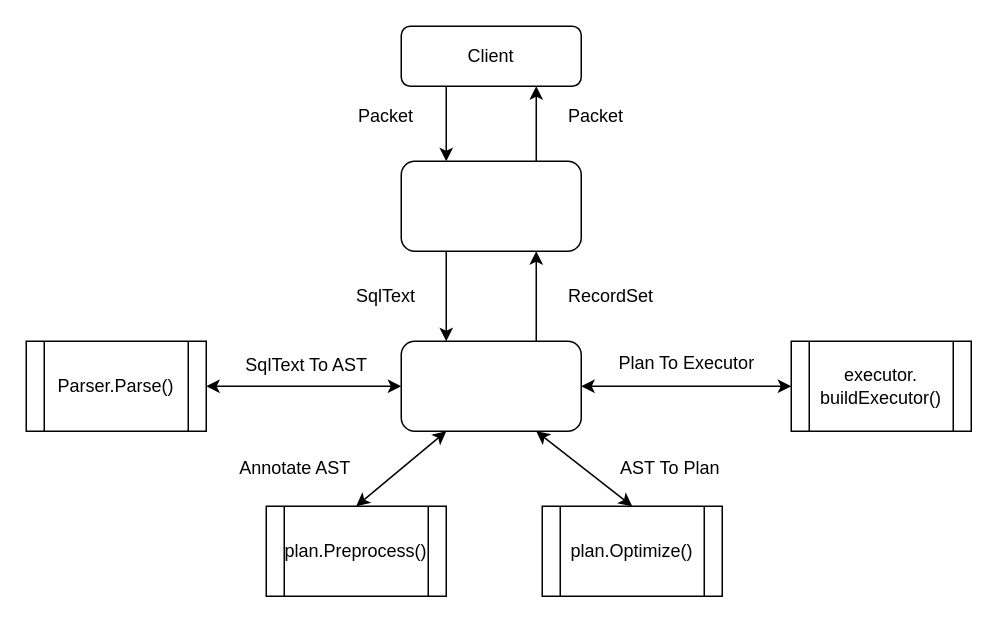
The diagram is 998 pixels wide and 623 high, and some of its shapes have lost their labels. The shapes that lost their labels are listed below. From the top down, each one's box as (x1, y1, x2, y2) in pixels, then its label:
(400, 160, 581, 251): conn.go dispatch()
(400, 340, 581, 431): session.go Execute()
